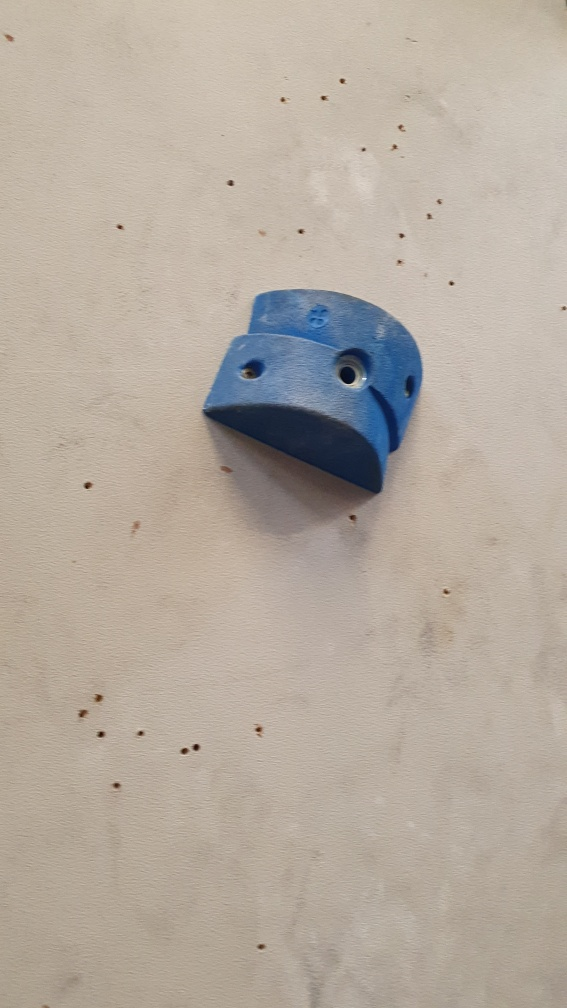Pinch: (213, 285, 430, 494)
